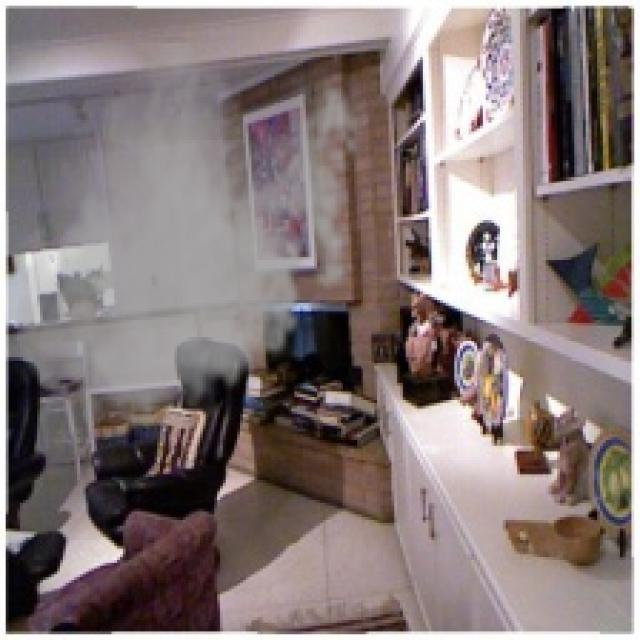smoke: (6, 37, 371, 443)
